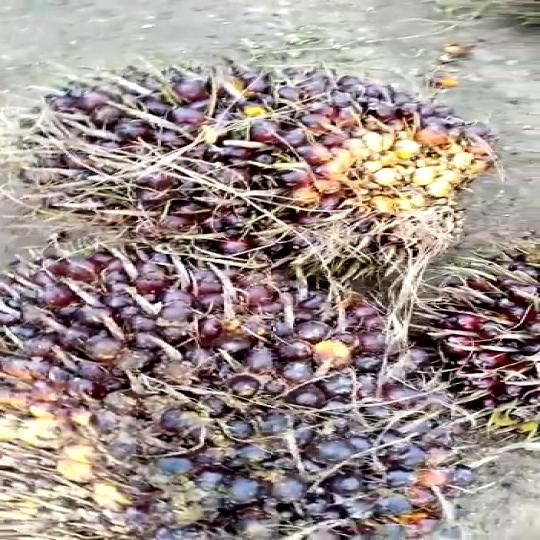kurang masak: (0, 239, 466, 540), (62, 50, 514, 305), (368, 238, 540, 456)
